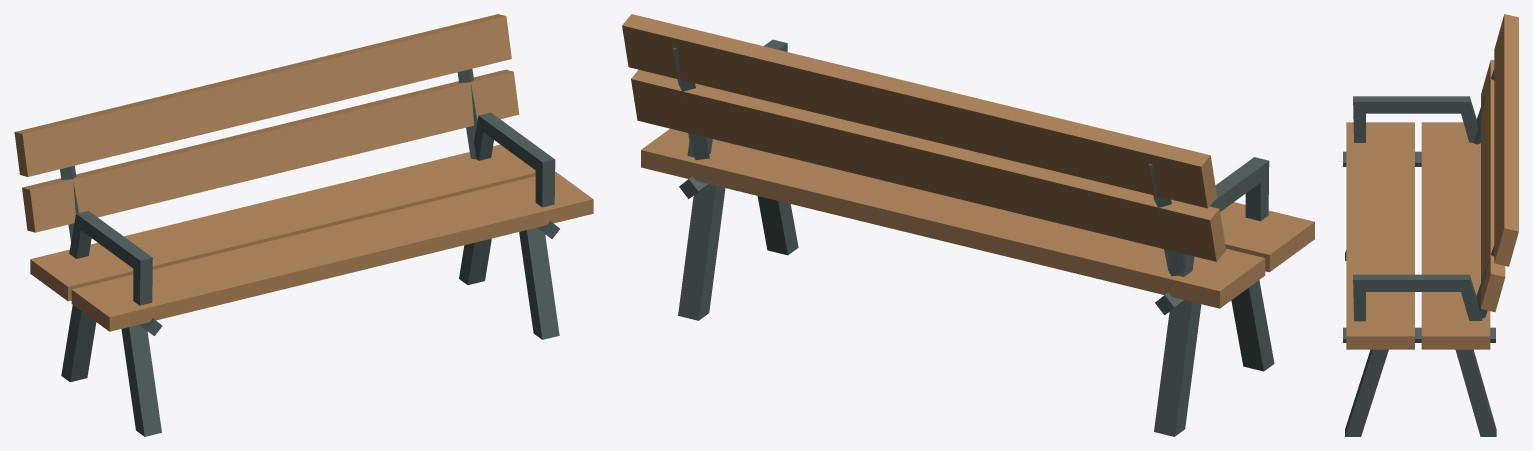
Rendered from cedar-bench.lod1.glb.
3 views of the same model, side by side, from view 1: azimuth 30°, elevation 25°; view 2: azimuth 150°, elevation 25°; view 3: azimuth 270°, elevation 25° (orthographic). The views are drawn at different scales.
Visible parts, largest first — view 1: wood, metal; view 2: wood, metal; view 3: wood, metal.
Boxes of the visible parts, bbox=[...] form: wood: bbox=[14, 14, 593, 331]; metal: bbox=[60, 69, 559, 436]; wood: bbox=[622, 14, 1314, 308]; metal: bbox=[673, 39, 1274, 436]; wood: bbox=[1346, 14, 1518, 349]; metal: bbox=[1343, 69, 1496, 436].
Size of the model in its own units: 2.02 by 0.9849 by 0.701.
